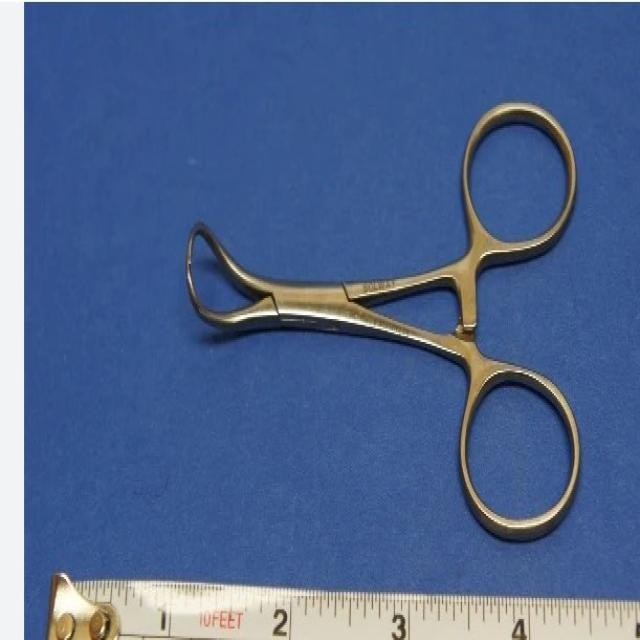Backhaus Towel Clamp: (185, 95, 584, 550)
